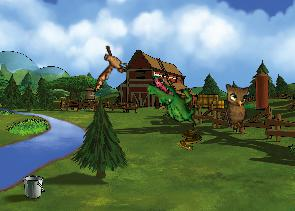crocodile: (139, 73, 207, 128)
eagle: (91, 44, 128, 92)
owl: (220, 79, 258, 131)
